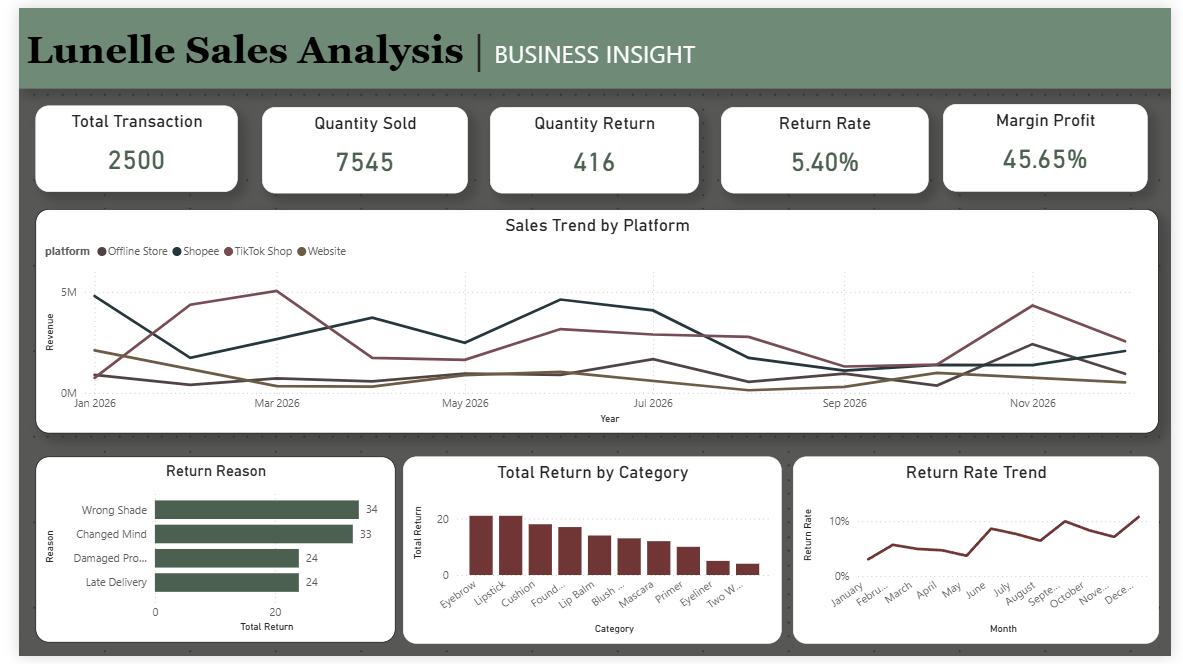

This screenshot's page, from the dashboard's own definition file:
{"tool":"powerbi","page":{"name":"Business Insight","canvas":[1280,720],"ordinal":1},"visuals":[{"type":"shape","box":[0,0,1280.5,89.5],"z":0},{"type":"lineChart","title":"Sales Trend by Platform","fields":{"Y":["Sum(public transactions.net_sales)"],"Series":["public transactions.platform"],"Category":["public monthly_profit.month.Variation.Date Hierarchy.Year","public monthly_profit.month.Variation.Date Hierarchy.Quarter","public monthly_profit.month.Variation.Date Hierarchy.Month","public monthly_profit.month.Variation.Date Hierarchy.Day"]},"box":[17.6,224,1248,249.6],"z":1000},{"type":"textbox","box":[3.3,9.8,1111.3,71.6],"z":2000},{"type":"card","title":"Quantity Return","fields":{"Values":["Table.Qty Return"]},"box":[523.2,110.4,232,96],"z":3000},{"type":"card","title":"Total Transaction","fields":{"Values":["Table.Total Transaction"]},"box":[17.9,109,224.5,96],"z":4000},{"type":"card","title":"Return Rate","fields":{"Values":["Table.Return Rate"]},"box":[780.8,110.4,230.4,96],"z":5000},{"type":"card","title":"Margin Profit","fields":{"Values":["public sales_new.Margin profit"]},"box":[1027.2,107.2,227.2,97.6],"z":6000},{"type":"card","title":"Quantity Sold","fields":{"Values":["Table.Qty Sold"]},"box":[270.4,110.4,228.8,96],"z":7000},{"type":"clusteredBarChart","title":"Return Reason","fields":{"Category":["public transactions.return_reason"],"Y":["Table.Total Return"]},"box":[17.6,497.6,400,206.4],"z":8000},{"type":"clusteredColumnChart","title":"Returned Products by Category","fields":{"Y":["Sum(public productreturn.total_return)"],"Category":["public productreturn.category"]},"box":[427.2,497.6,420.8,208],"z":9000},{"type":"lineChart","title":"Return Rate Trend","fields":{"Category":["Calendar.Month"],"Y":["Table.Return Rate"]},"box":[859.2,497.6,406.4,208],"z":11000}]}

Visuals, with their boxes in screenshot pixels (x1, y1, x2, y2), scaled from the page's 1280x720 canvas onto the 1183x664 screenshot:
shape: [left=0, top=0, right=1182, bottom=83]
"Sales Trend by Platform" lineChart: [left=16, top=207, right=1170, bottom=437]
textbox: [left=3, top=9, right=1030, bottom=75]
"Quantity Return" card: [left=484, top=102, right=698, bottom=190]
"Total Transaction" card: [left=17, top=101, right=224, bottom=189]
"Return Rate" card: [left=722, top=102, right=935, bottom=190]
"Margin Profit" card: [left=949, top=99, right=1159, bottom=189]
"Quantity Sold" card: [left=250, top=102, right=461, bottom=190]
"Return Reason" clusteredBarChart: [left=16, top=459, right=386, bottom=649]
"Returned Products by Category" clusteredColumnChart: [left=395, top=459, right=784, bottom=651]
"Return Rate Trend" lineChart: [left=794, top=459, right=1170, bottom=651]
